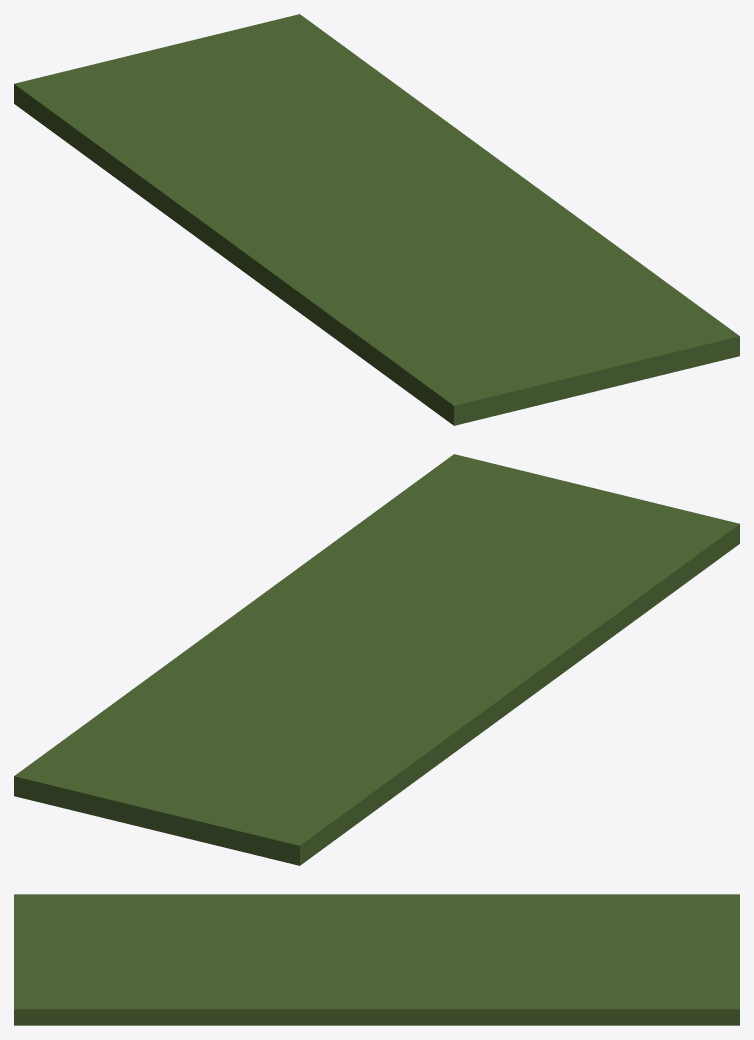
The model's file is neutral_props_poll.glb.
The picture shows the model from 3 angles, top to bottom: view 1: azimuth 30°, elevation 25°; view 2: azimuth 150°, elevation 25°; view 3: azimuth 270°, elevation 25°; orthographic projection. The views are drawn at different scales.
Parts seen in each view (by area): view 1: levelpol-group-0; view 2: levelpol-group-0; view 3: levelpol-group-0.
Boxes of the visible parts, left/top/right/bottom form: levelpol-group-0: left=14, top=14, right=739, bottom=425; levelpol-group-0: left=14, top=454, right=739, bottom=865; levelpol-group-0: left=14, top=894, right=739, bottom=1025.
Size of the model in its own units: 60 by 4 by 160.
